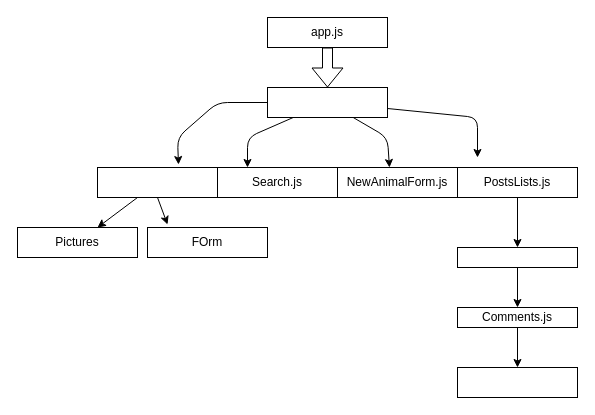
The diagram is 595 pixels wide and 415 high, and some of its shapes have lost their labels. The box of each missing label's shape, as (x1, y1, x2, y2) in pixels:
CommentContainer.js: (456, 366, 578, 398)
Header.js: (96, 166, 218, 198)
Posts.js: (456, 246, 578, 268)
SafariPage.js: (266, 86, 388, 118)
